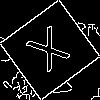X: (24, 25, 79, 82)
